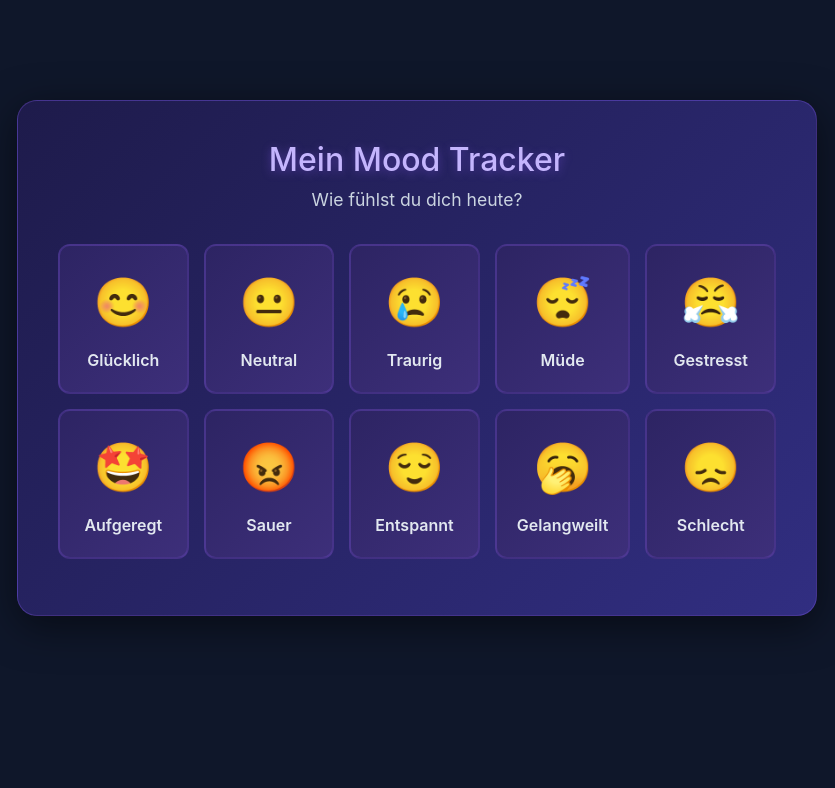
Test: MoodComponentTest › Mood auswählen zeigt Auswahl + Notizfeld + Save-Button
Click the list item with class "mood-item" showing "😊 Glücklich" at (123, 319), box left=58, top=244, right=189, bottom=394
(page scrolled)
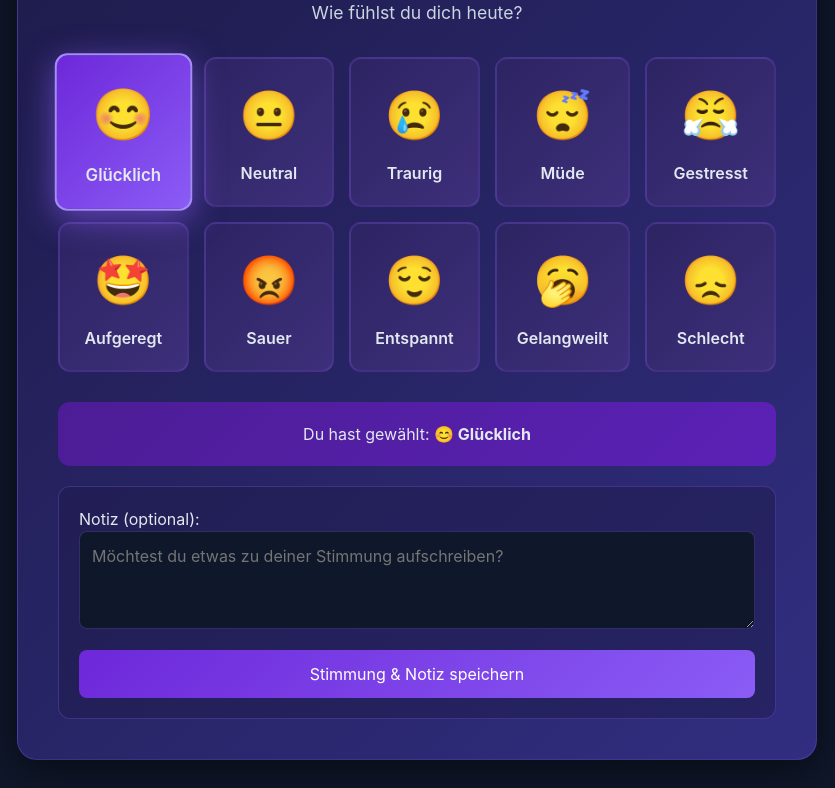
Result: the text "Du hast gewählt:" is shown at left=303, top=424, right=434, bottom=444
Result: the text box with id "note" is shown at left=79, top=531, right=755, bottom=629
Result: the button with class "save-button" is shown at left=79, top=650, right=755, bottom=698
